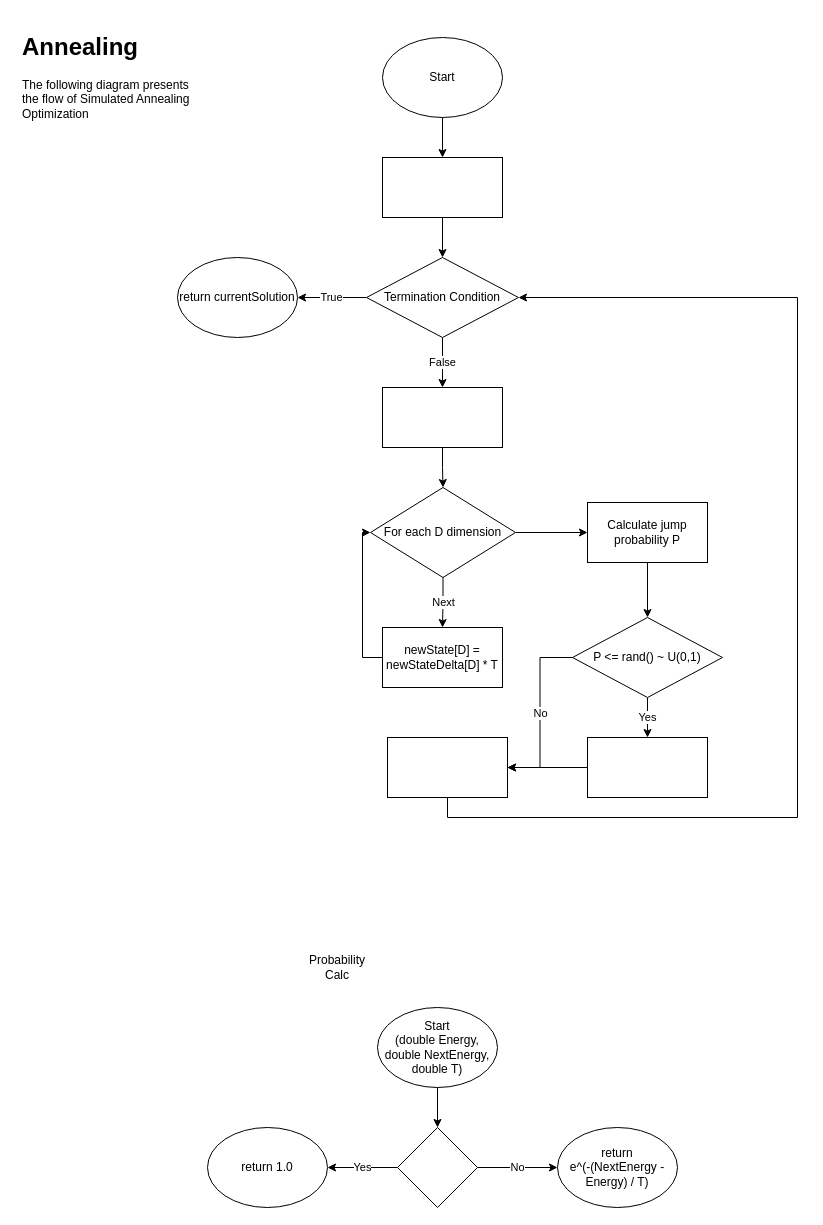
Image size: 823x1225. Some labels were removed from this diagram. The box of each missing label's shape, as (x1, y1, x2, y2) in pixels:
currentState = newState: (586, 736, 708, 798)
Generate newStateDelta: (382, 386, 502, 448)
nextEnergy < Energy: (396, 1126, 478, 1208)
Set T to TMax Generate random solution: (382, 156, 502, 218)
Update T: (386, 736, 508, 798)
